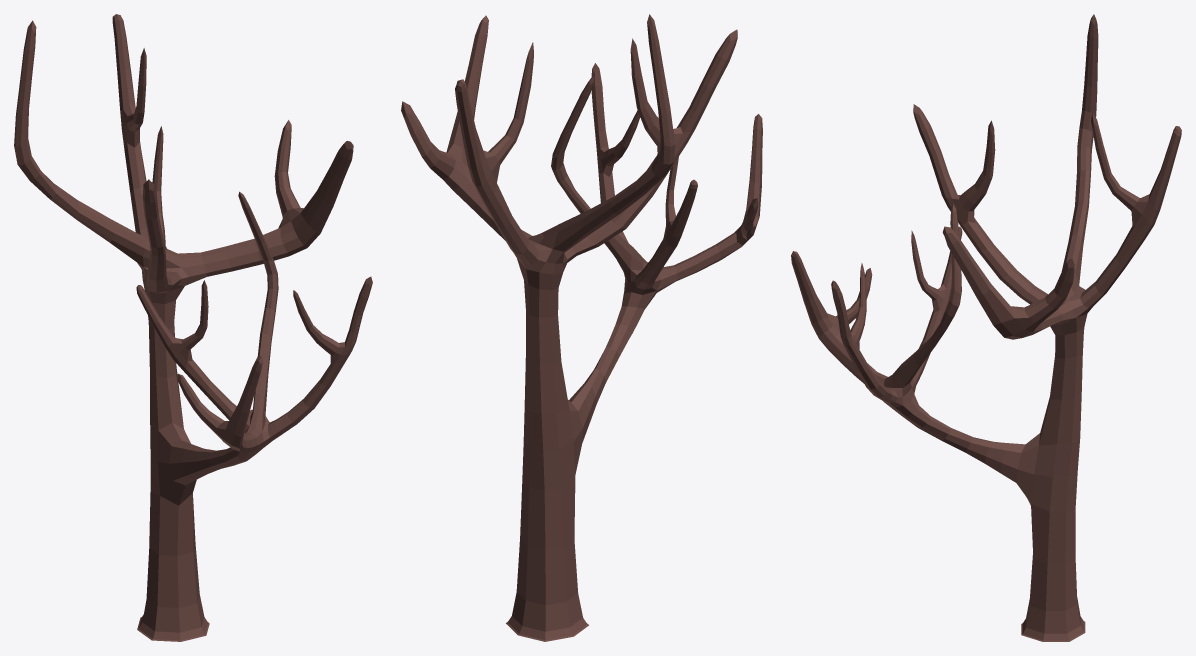
Rendered from CommonTree_Dead_2.glb.
3 renders of one model, left to right at view 1: azimuth 30°, elevation 25°; view 2: azimuth 150°, elevation 25°; view 3: azimuth 270°, elevation 25°, orthographic. The views are drawn at different scales.
Parts seen in each view (by area): view 1: CommonTree_Dead_2; view 2: CommonTree_Dead_2; view 3: CommonTree_Dead_2.
Boxes of the visible parts, x1=… form: CommonTree_Dead_2: x1=14, y1=14, x2=372, y2=641; CommonTree_Dead_2: x1=401, y1=14, x2=762, y2=641; CommonTree_Dead_2: x1=791, y1=14, x2=1181, y2=641.
Bounding box in the file's own units: 1.33 × 2.96 × 1.86.
